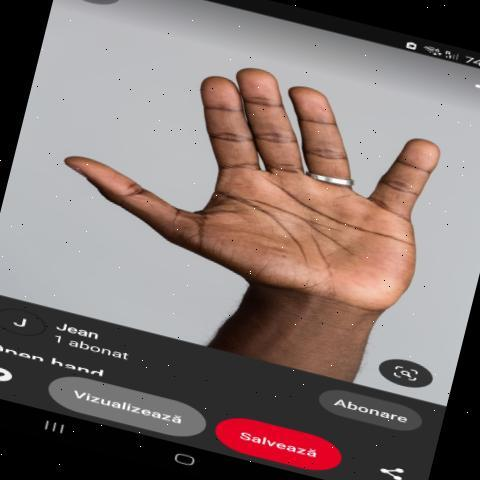Hands: (49, 27, 463, 317)
